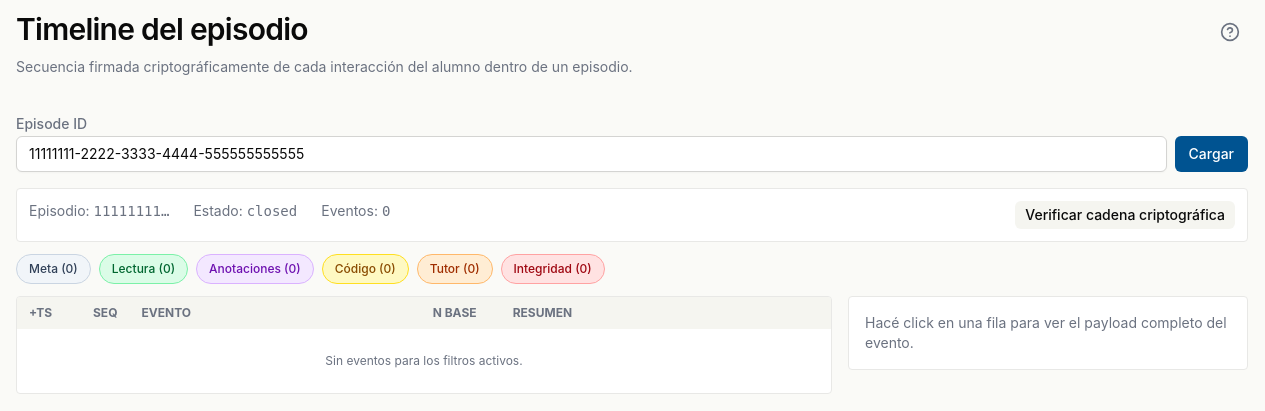
Test case: EpisodeTimelineView — verificar cadena › cadena integra: muestra cantidad de eventos
Click the button with test id "timeline-verify".
click(1125, 214)  # box [1015,200,1235,228]
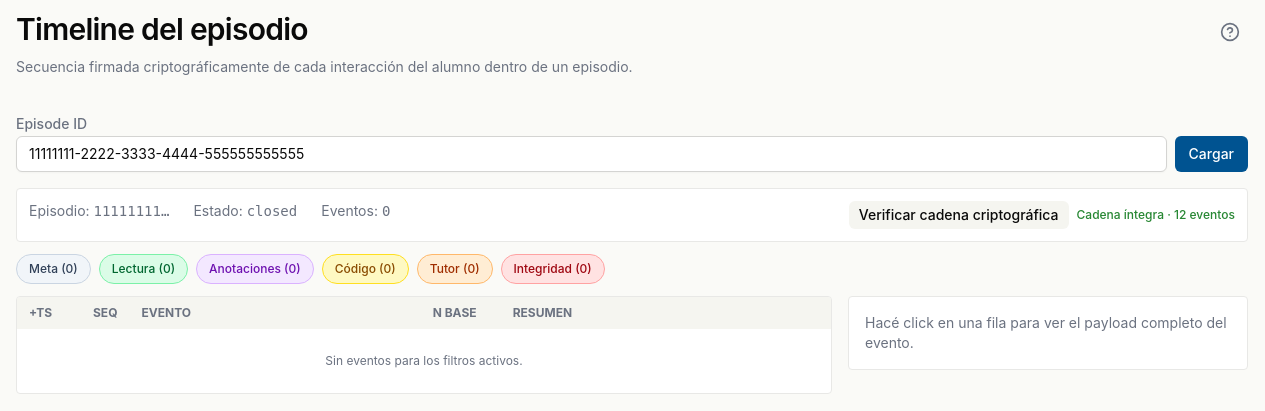
Expected: the text with test id "timeline-verify-result" shows "íntegra", [1076,206,1235,222]
Expected: the text with test id "timeline-verify-result" shows "12", [1076,206,1235,222]
